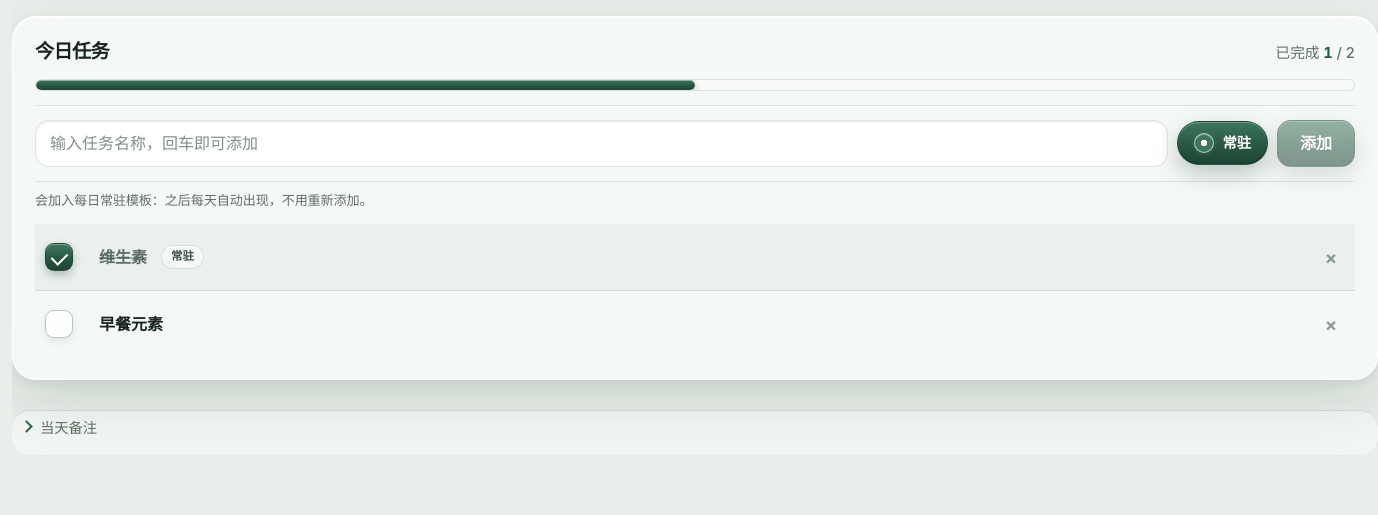
Test: HealthWorkspace › requires reload after a 409 before another edit
Click the checkbox named "完成 早餐元素": [59, 324] box [37,302,81,346]
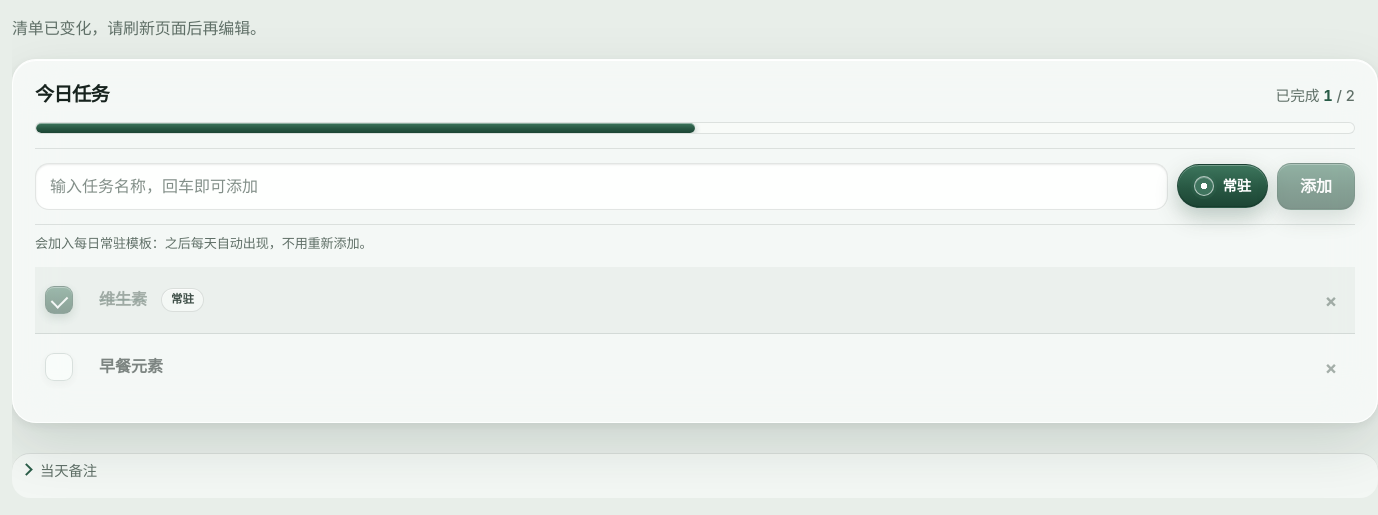
Expected: the button "添加" is disabled, [1277,163,1355,209]
Expected: the text "清单已变化，请刷新页面后再编辑。" is shown, [12,18,266,38]
